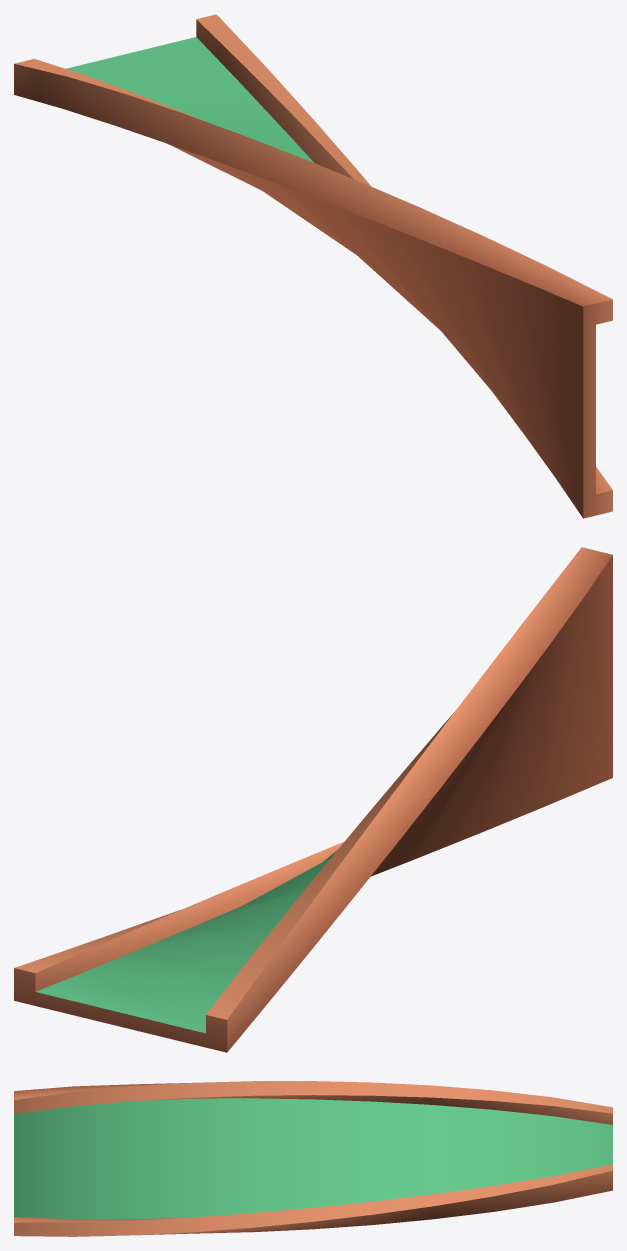
File: spline-default-straight-skew-left-side.glb
3 views of the same model, one above another, from view 1: azimuth 30°, elevation 25°; view 2: azimuth 150°, elevation 25°; view 3: azimuth 270°, elevation 25° (orthographic). The views are drawn at different scales.
Parts seen in each view (by area): view 1: spline-default-straight-skew-left-side; view 2: spline-default-straight-skew-left-side; view 3: spline-default-straight-skew-left-side.
Part boxes in pixels (left/top/right/bottom): spline-default-straight-skew-left-side: left=14, top=14, right=612, bottom=518; spline-default-straight-skew-left-side: left=14, top=547, right=612, bottom=1052; spline-default-straight-skew-left-side: left=14, top=1081, right=612, bottom=1236.
Bounding box in the file's own units: 1.02 × 1.02 × 4.
Materials: 1 (1 with a texture image).
